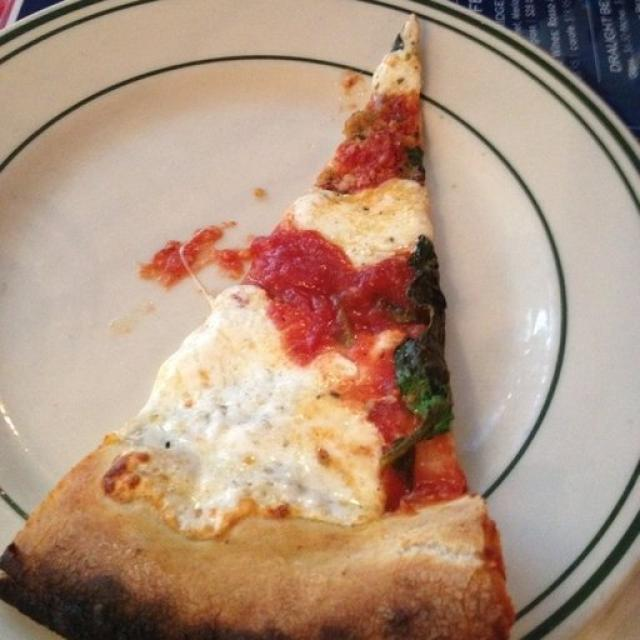Basil: (404, 234, 452, 438)
Cheese: (136, 294, 376, 531), (305, 188, 439, 250)
Pizza: (0, 18, 514, 640)
